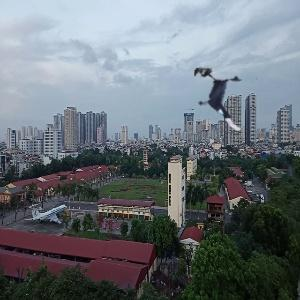drone: (194, 69, 258, 133)
